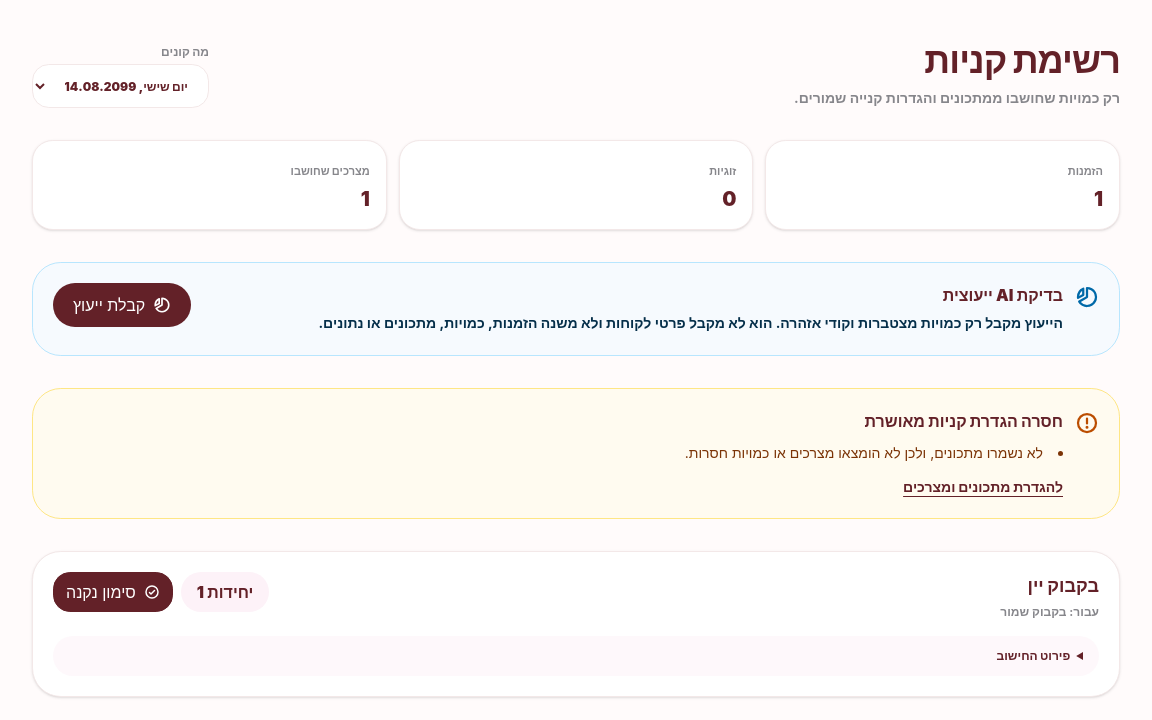
ShoppingListScreen › retains a failed shopping write and reports the conflict
Click the button with aria-label "סימון בקבוק יין כנקנה": (113, 592) [53,572,173,612]
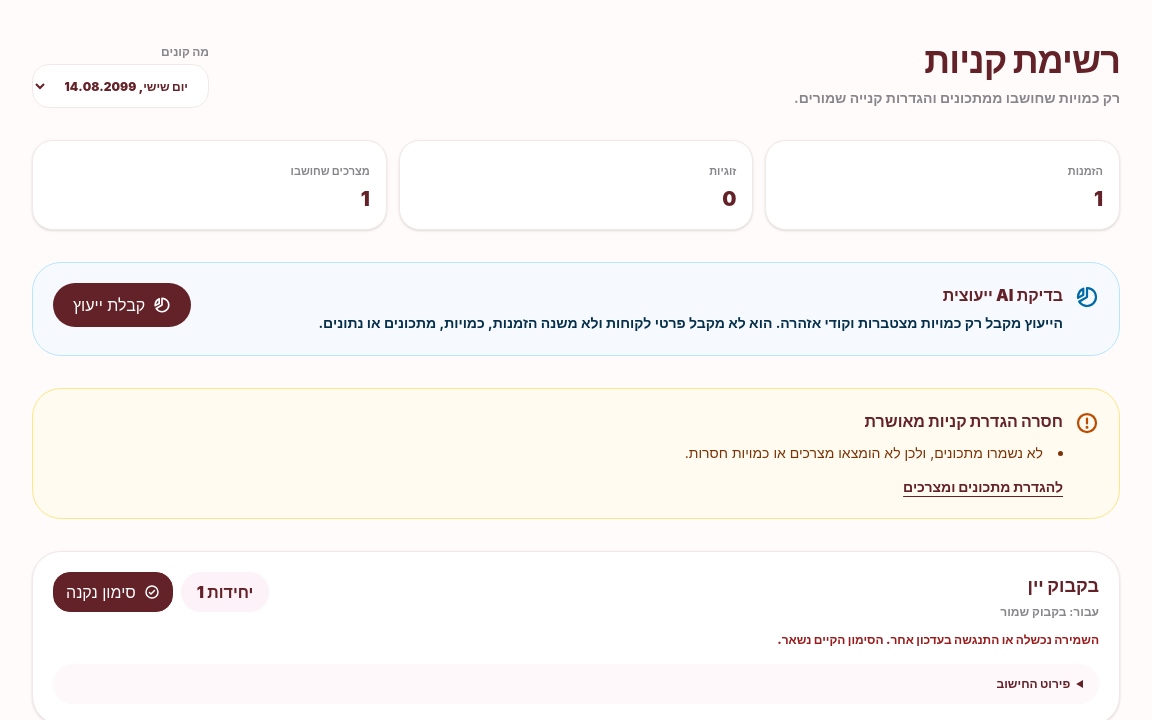
Check: the text "השמירה נכשלה או התנגשה בעדכון אחר. הסימון הקיים נשאר." is shown, box [777,632,1099,647]
